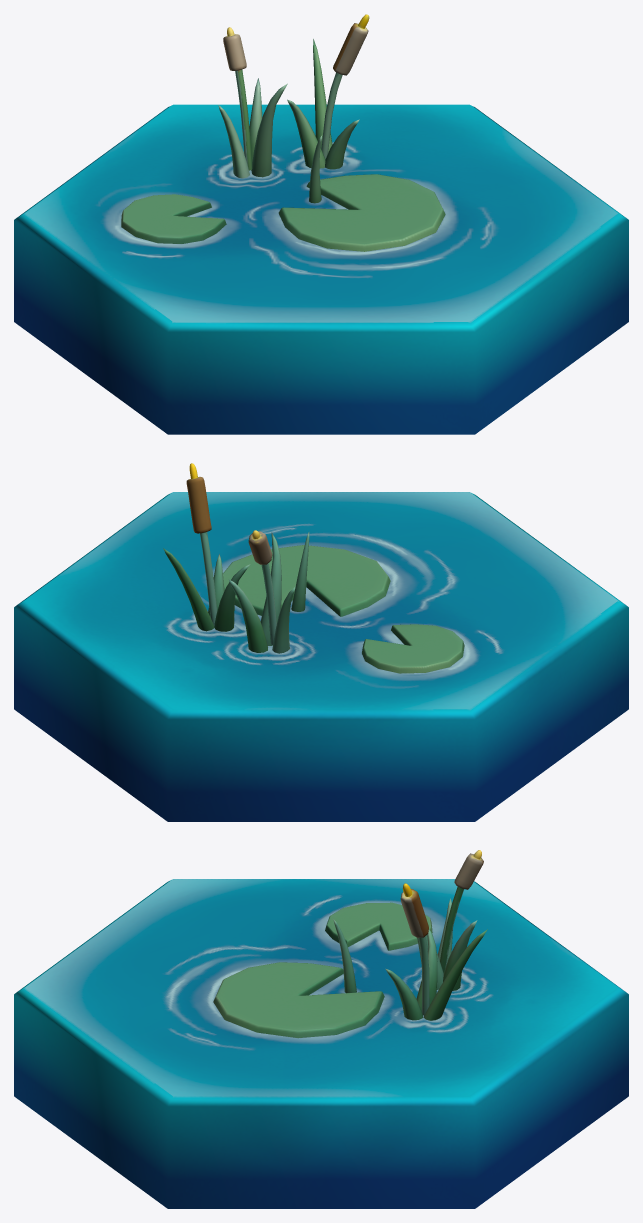
Rendered from swamp.fbx.
The picture shows the model from 3 angles, top to bottom: view 1: azimuth 30°, elevation 25°; view 2: azimuth 150°, elevation 25°; view 3: azimuth 270°, elevation 25°; orthographic projection.
Parts seen in each view (by area): view 1: Swamp; view 2: Swamp; view 3: Swamp.
Part boxes in pixels (x1,y1,x2,y2): Swamp: (14,14,628,434); Swamp: (14,463,628,821); Swamp: (14,850,628,1208).
Size of the model in its own units: 83.21 by 44.02 by 96.08.
1 material, 1 textured.
